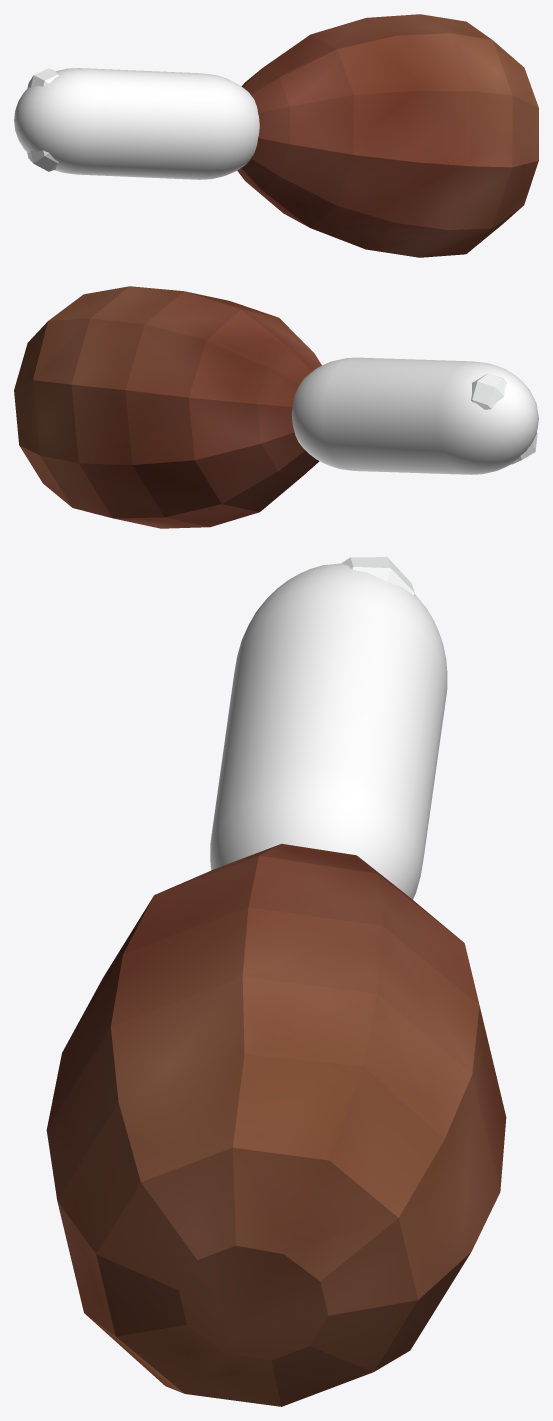
Rendered from TurkeyLegAnchor.fbx.
3 renders of one model, top to bottom at view 1: azimuth 30°, elevation 25°; view 2: azimuth 150°, elevation 25°; view 3: azimuth 270°, elevation 25°, orthographic. The views are drawn at different scales.
Visible parts, largest first — view 1: TURKEY_LEG, Capsule__9_; view 2: TURKEY_LEG, Capsule__9_; view 3: TURKEY_LEG, Capsule__9_.
Boxes of the visible parts, left/top/right/bottom form: TURKEY_LEG: left=27, top=14, right=538, bottom=257; Capsule__9_: left=14, top=68, right=259, bottom=179; TURKEY_LEG: left=14, top=286, right=537, bottom=528; Capsule__9_: left=291, top=357, right=538, bottom=474; TURKEY_LEG: left=46, top=557, right=506, bottom=1406; Capsule__9_: left=210, top=563, right=447, bottom=899.
Bounding box in the file's own units: 32.79 × 15.33 × 13.43.
